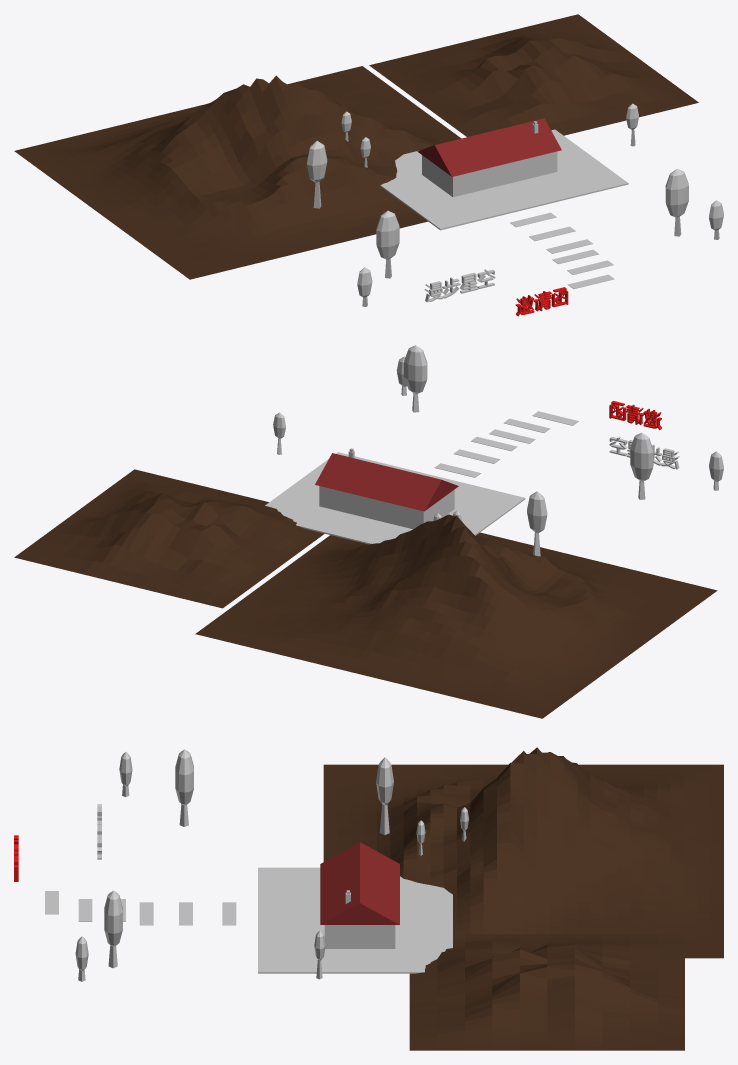
The model's file is env.dae.
3 renders of one model, top to bottom at view 1: azimuth 30°, elevation 25°; view 2: azimuth 150°, elevation 25°; view 3: azimuth 270°, elevation 25°, orthographic. The views are drawn at different scales.
Visible parts, largest first — view 1: 地形.1, 地形, 立方体.1, 圆柱, 立方体.2, 球体 (×3), 封顶_1 (×2), 挤压, 挤压.1; view 2: 地形.1, 地形, 立方体.1, 圆柱, 立方体.2, 球体 (×3), 挤压.1; view 3: 地形.1, 地形, 立方体.1, 圆柱, 球体 (×3), 立方体.2.
Part boxes in pixels (x1,y1,x2,y2): 地形.1: [14, 66, 461, 279]; 地形: [369, 14, 698, 136]; 立方体.1: [380, 129, 628, 230]; 圆柱: [417, 118, 561, 176]; 立方体.2: [422, 151, 557, 197]; 球体 (×3): [307, 140, 688, 259]; 封顶_1 (×2): [426, 271, 568, 316]; 挤压: [424, 269, 494, 301]; 挤压.1: [515, 287, 567, 315]; 地形.1: [195, 514, 717, 718]; 地形: [14, 469, 324, 608]; 立方体.1: [265, 452, 525, 544]; 圆柱: [315, 453, 458, 511]; 立方体.2: [319, 486, 454, 529]; 球体 (×3): [404, 345, 653, 533]; 挤压.1: [610, 401, 661, 429]; 地形.1: [323, 747, 723, 958]; 地形: [409, 934, 684, 1050]; 立方体.1: [258, 867, 452, 973]; 圆柱: [320, 842, 399, 924]; 球体 (×3): [104, 749, 393, 946]; 立方体.2: [324, 925, 395, 948].
Size of the model in its own units: 1568 by 267 by 1548.
